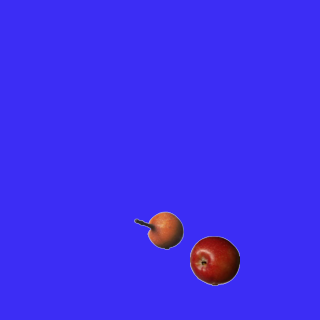Apple Braeburn: (189, 235, 239, 285)
Granadilla: (133, 205, 183, 255)
